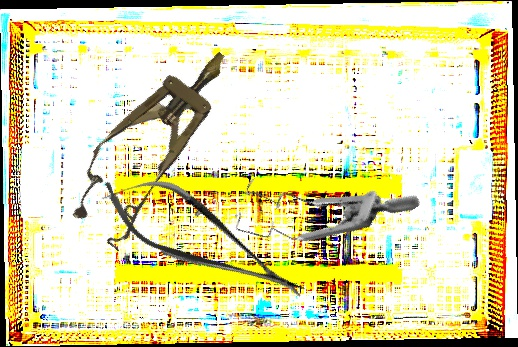Micro Scissor: (88, 153, 319, 326)
Speculum: (54, 28, 255, 253), (217, 108, 422, 299)
